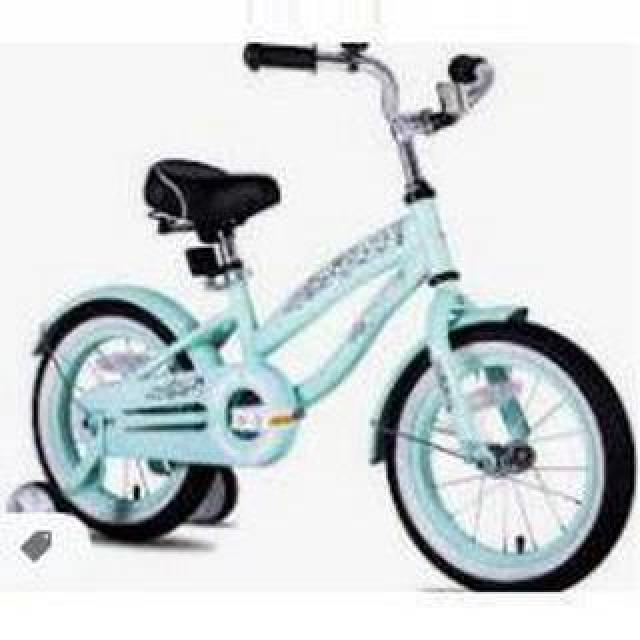Person: (32, 44, 632, 590)
